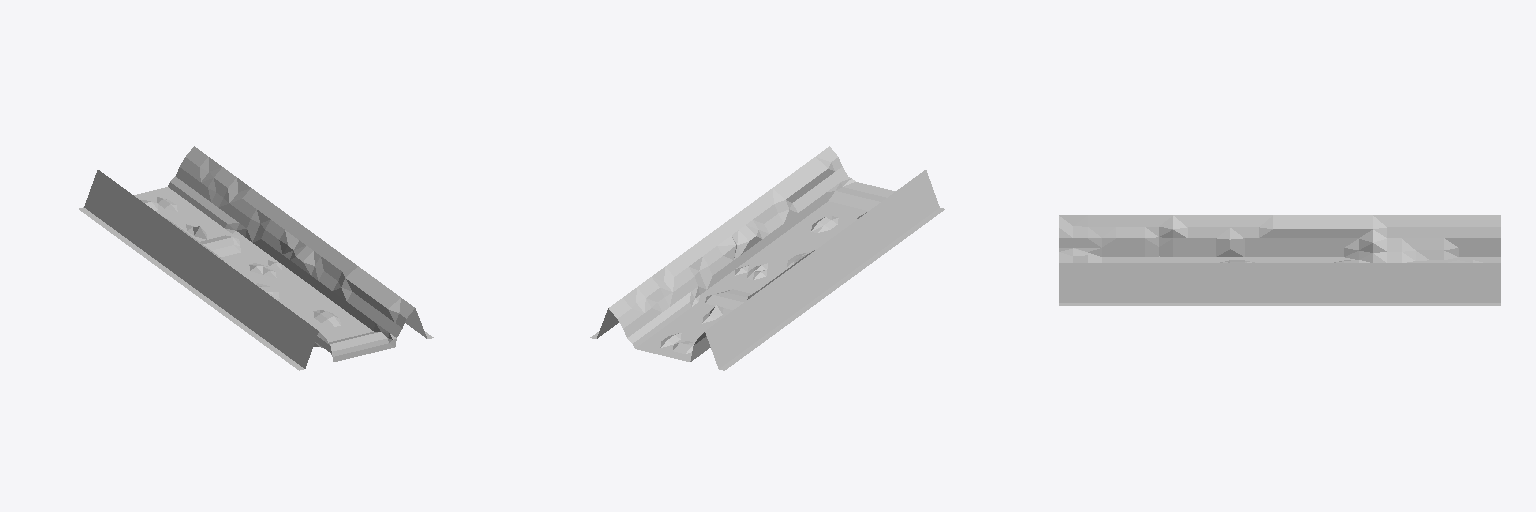
File: ground.obj
3 renders of one model, left to right at view 1: azimuth 30°, elevation 25°; view 2: azimuth 150°, elevation 25°; view 3: azimuth 270°, elevation 25°, orthographic.
Visible parts, largest first — view 1: 平面; view 2: 平面; view 3: 平面.
Boxes of the visible parts, <box> form: 平面: <box>79,146,433,370</box>; 平面: <box>590,146,944,370</box>; 平面: <box>1059,215,1500,305</box>.
Size of the model in its own units: 81.96 by 20.19 by 233.